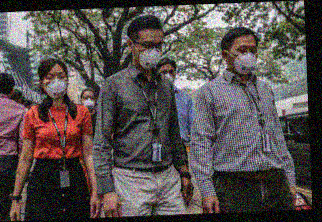with_mask: (228, 43, 260, 76), (134, 38, 165, 72), (43, 70, 69, 100), (158, 67, 176, 84), (80, 93, 96, 111)
